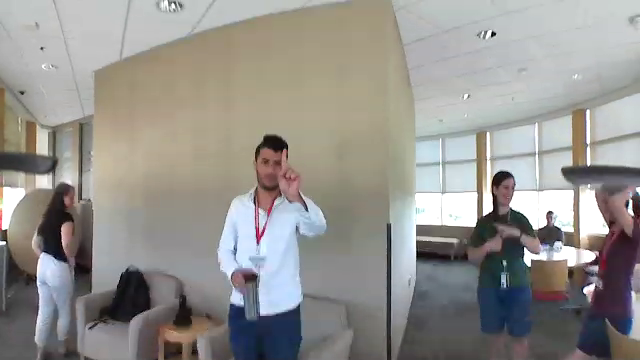up: (272, 144, 303, 201)
